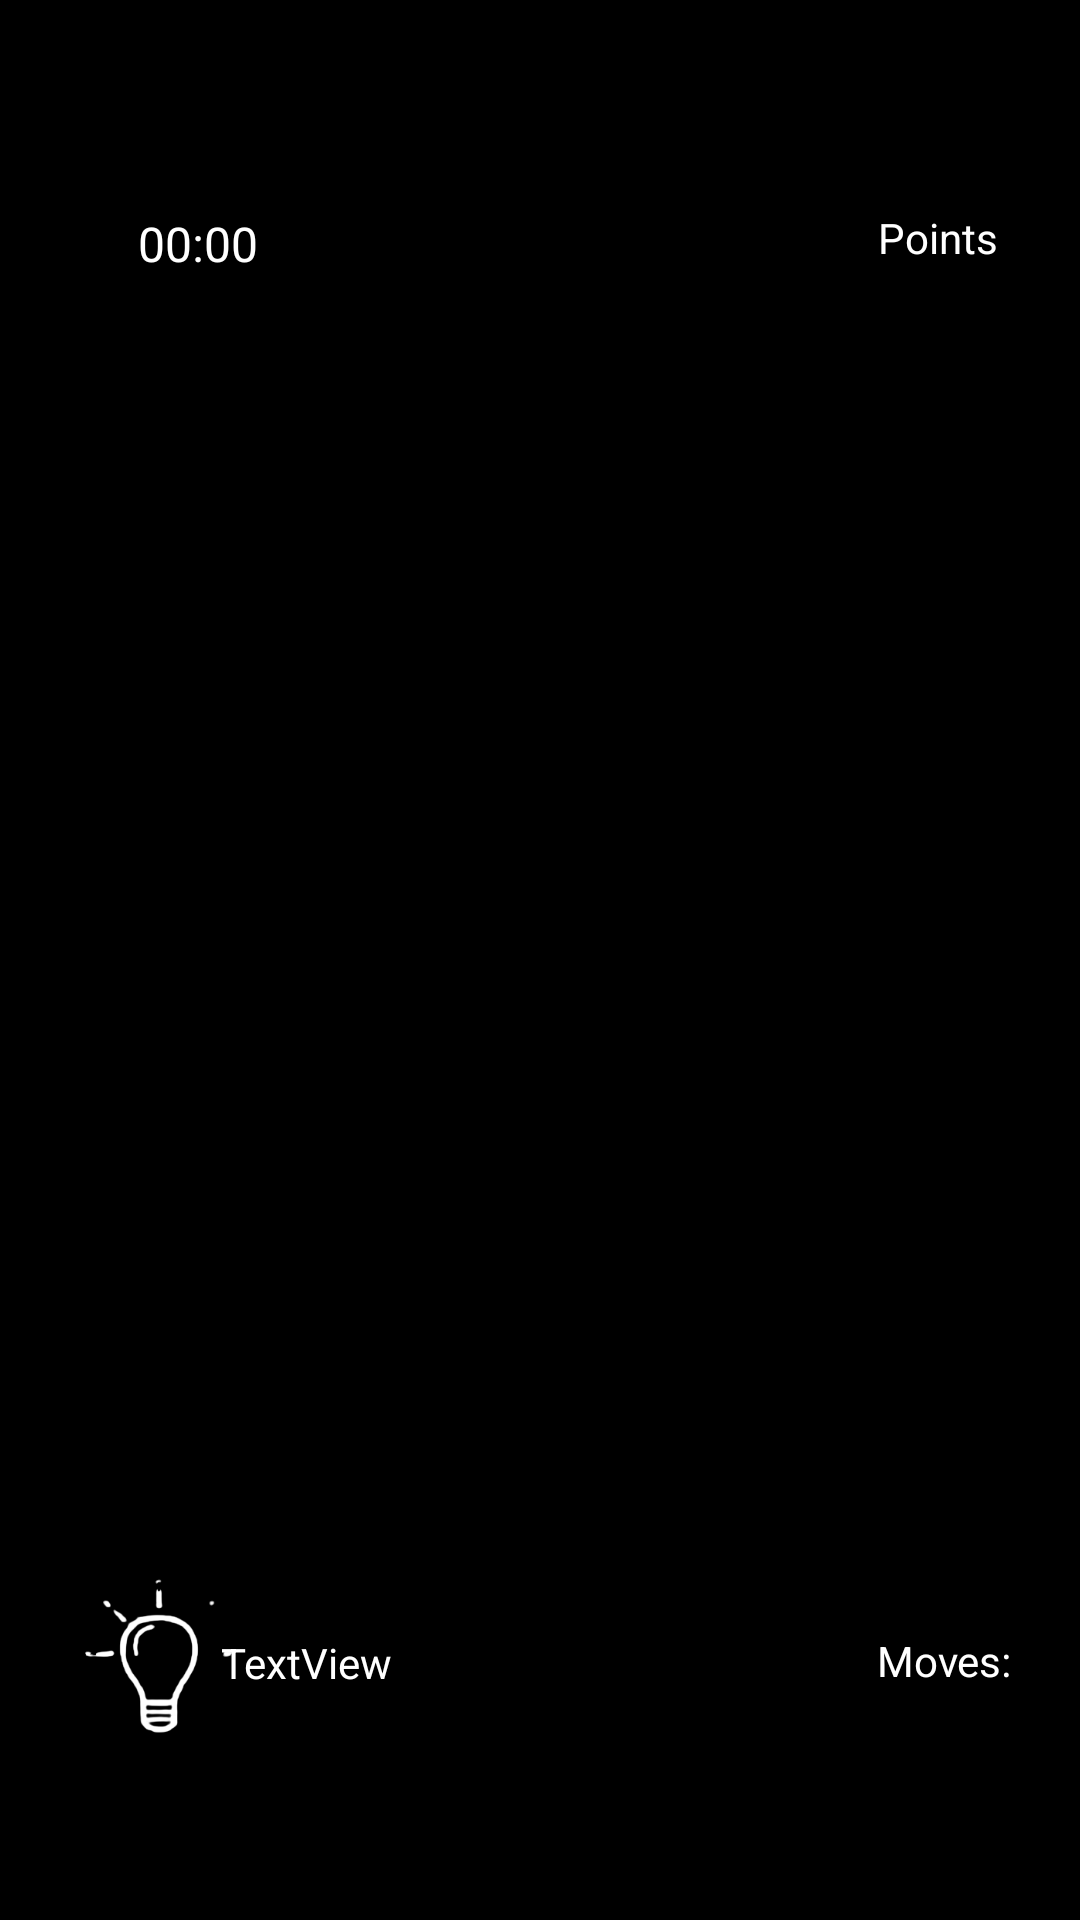

Locate icon controls on the screen. Image size 1080 x 1920, boxes as (x1, y1, x2, y2).
lightbulb: (85, 1579, 246, 1733)
